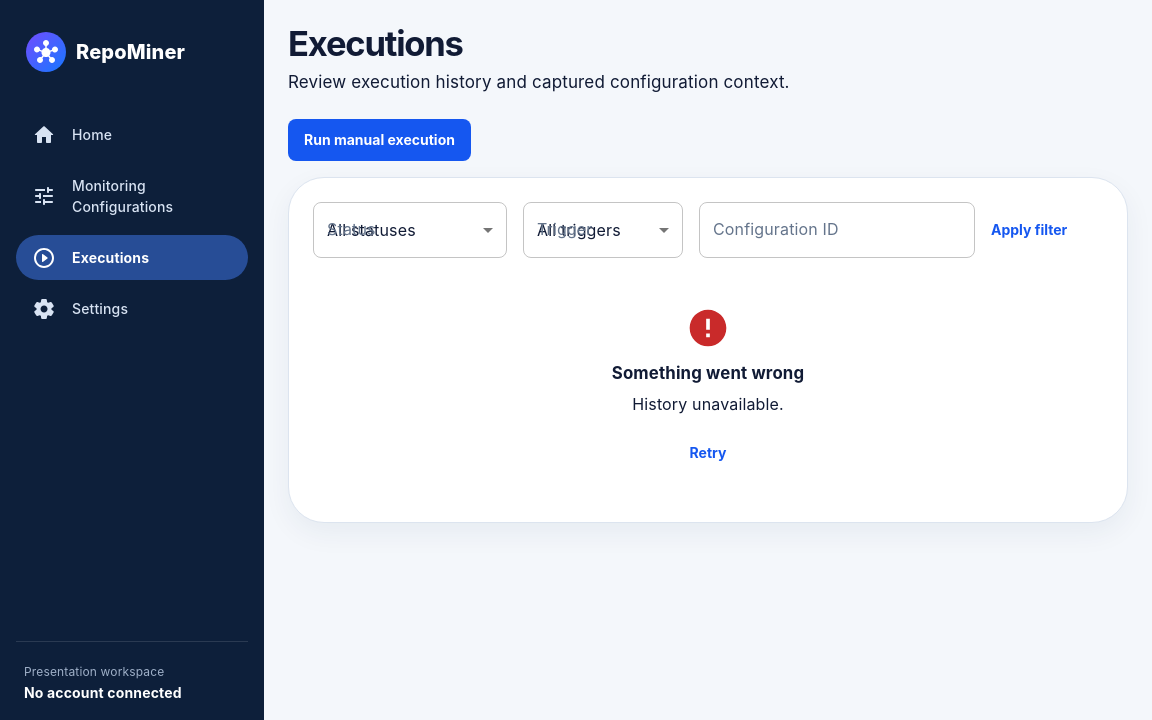
shows empty results and a recoverable safe error
Expected: the text "History unavailable." is shown, [632,394,784,414]
What coordinates should you click on to do the following:
click the button "Retry"
I would click on:
 (708, 453)
Its box is [676,432,740,474].
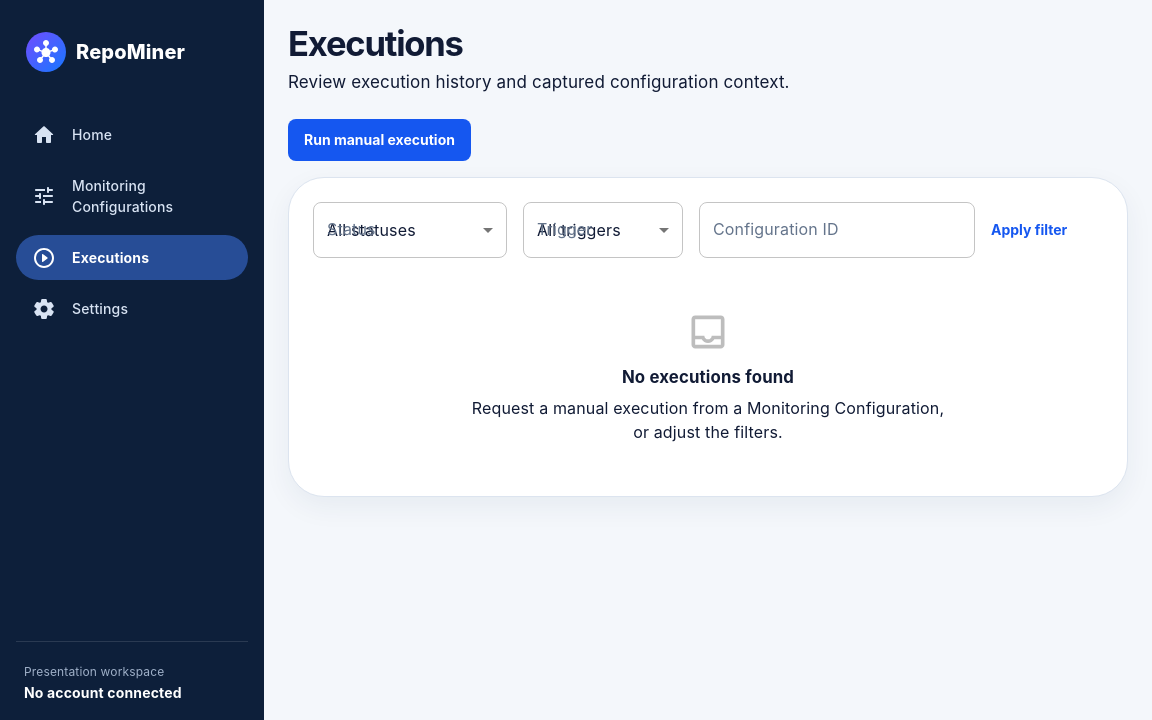
Now the heading "No executions found" is shown, box [622,367,794,387]
